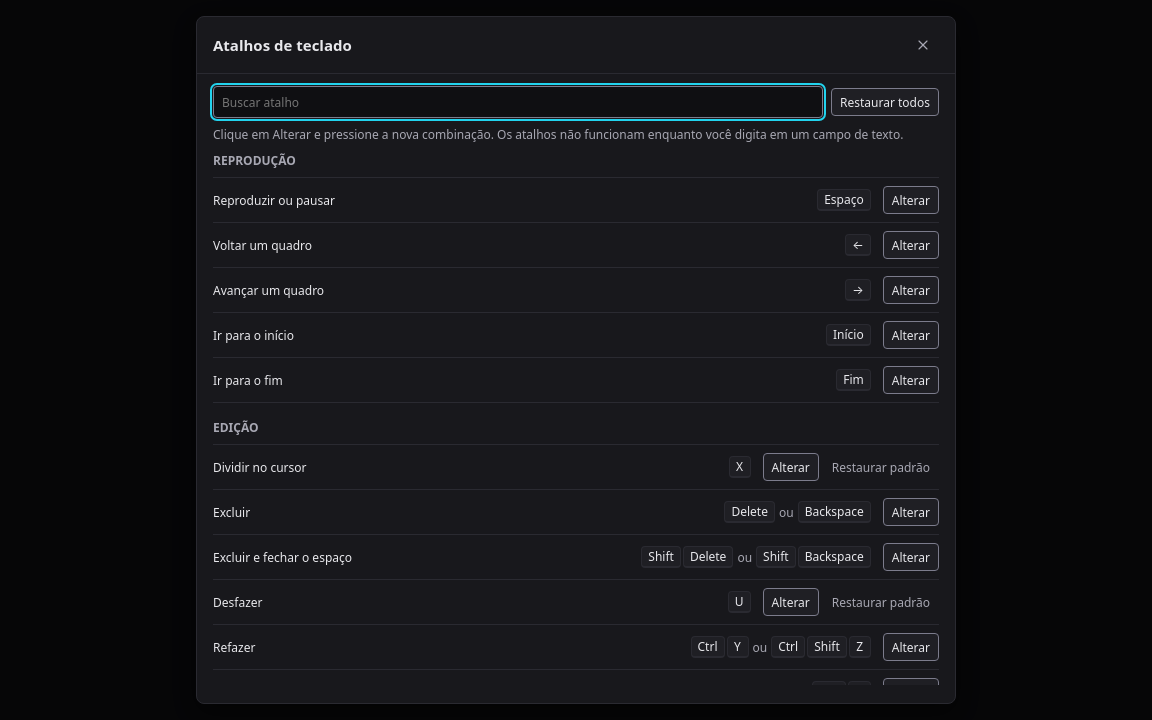
ShortcutsDialog › restaura o padrão de uma ação e de todas
The width and height of the screenshot is (1152, 720).
Click the button "Restaurar padrão" in the row of "Dividir no cursor" at (881, 467), box [823,453,939,481]
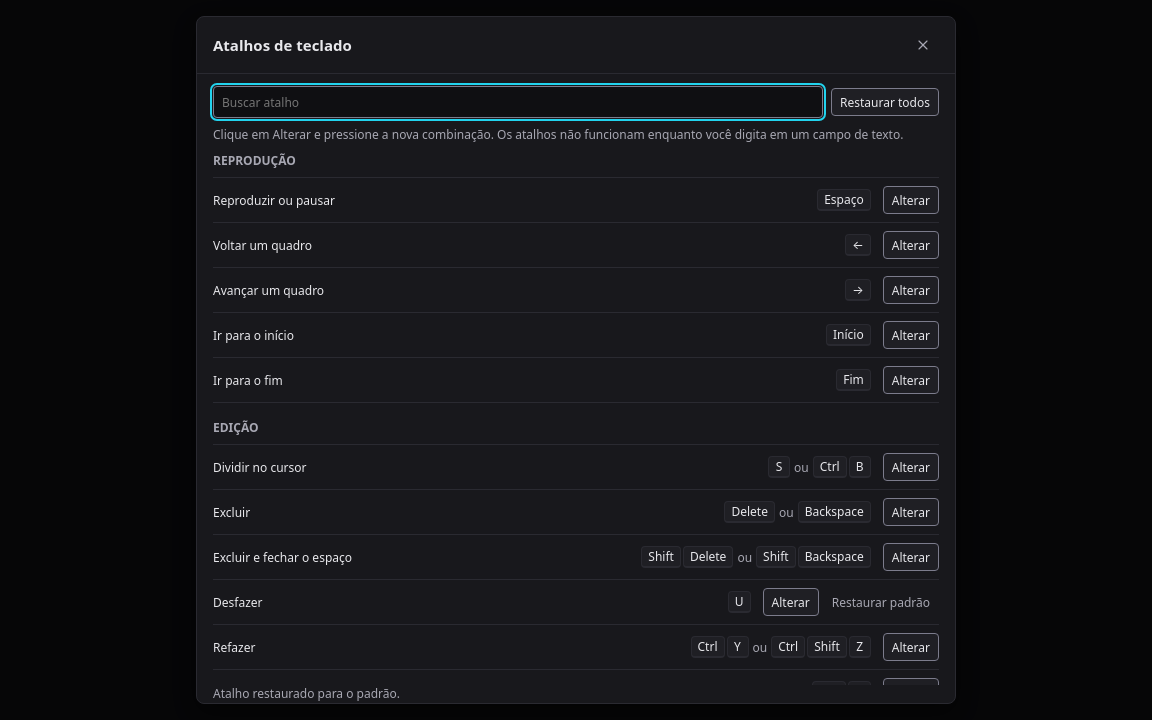
Click the button "Restaurar todos" at (885, 102), box [831,88,939,116]
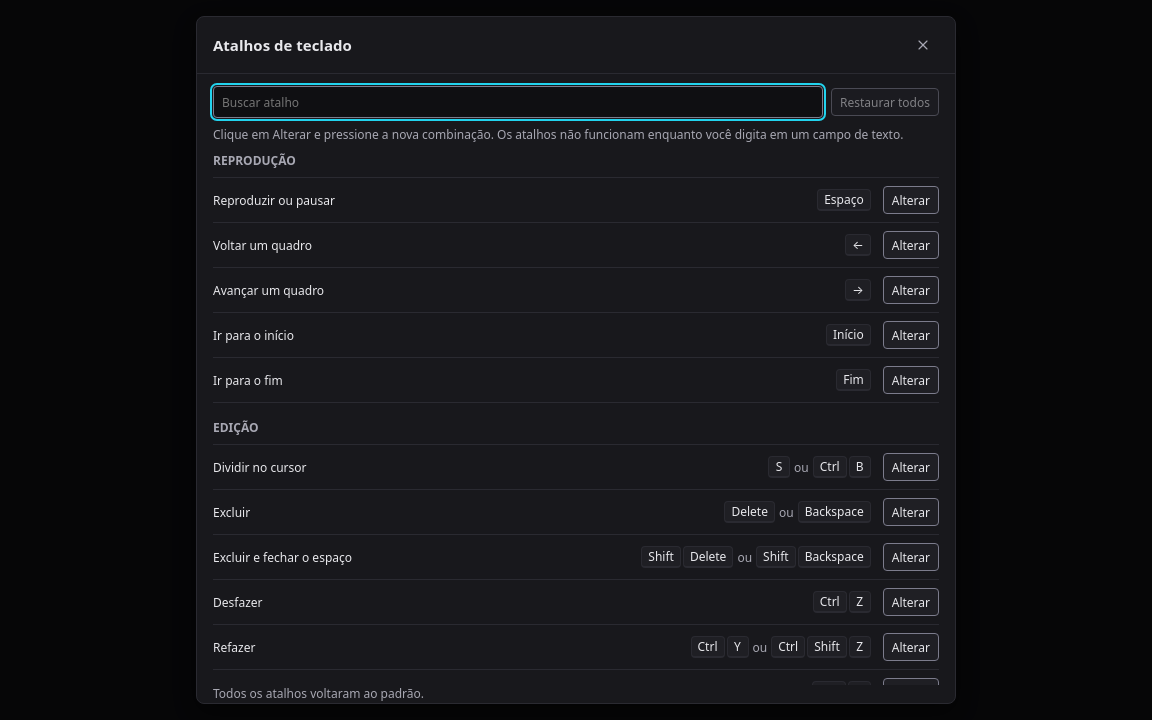
Now the button "Restaurar todos" is disabled, box [831,88,939,116]
